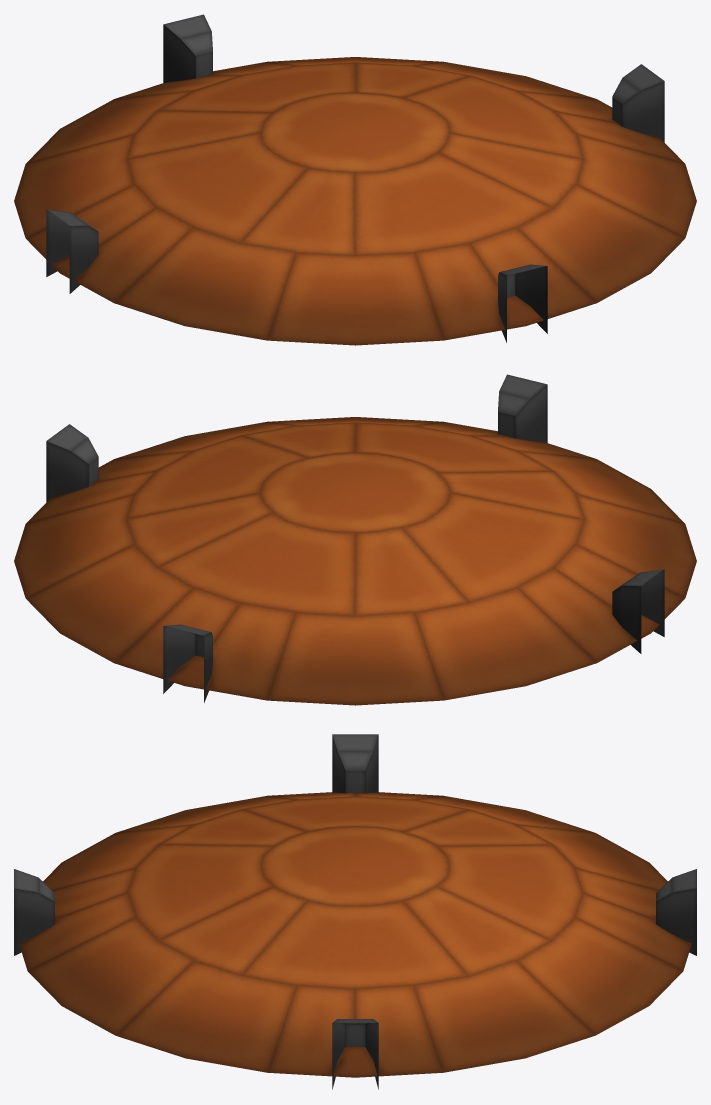
Rendered from TankTopper.dae.
The picture shows the model from 3 angles, top to bottom: view 1: azimuth 30°, elevation 25°; view 2: azimuth 150°, elevation 25°; view 3: azimuth 270°, elevation 25°; orthographic projection.
Parts seen in each view (by area): view 1: TankTopper, pCube10, pCube11, pCube12, pCube13; view 2: TankTopper, pCube10, pCube13, pCube12, pCube11; view 3: TankTopper, pCube12, pCube11, pCube13, pCube10.
Part boxes in pixels (x1,y1,x2,y2): TankTopper: (14,57,696,345); pCube10: (612,64,664,142); pCube11: (163,14,212,82); pCube12: (46,209,98,293); pCube13: (498,264,547,342); TankTopper: (14,417,696,705); pCube10: (46,424,98,502); pCube13: (498,374,547,442); pCube12: (612,569,664,653); pCube11: (163,624,212,702); TankTopper: (19,792,691,1077); pCube12: (332,734,378,793); pCube11: (656,869,696,955); pCube13: (14,869,54,955); pCube10: (332,1019,378,1089).
Bounding box in the file's own units: 1.71 × 0.2402 × 1.71.
